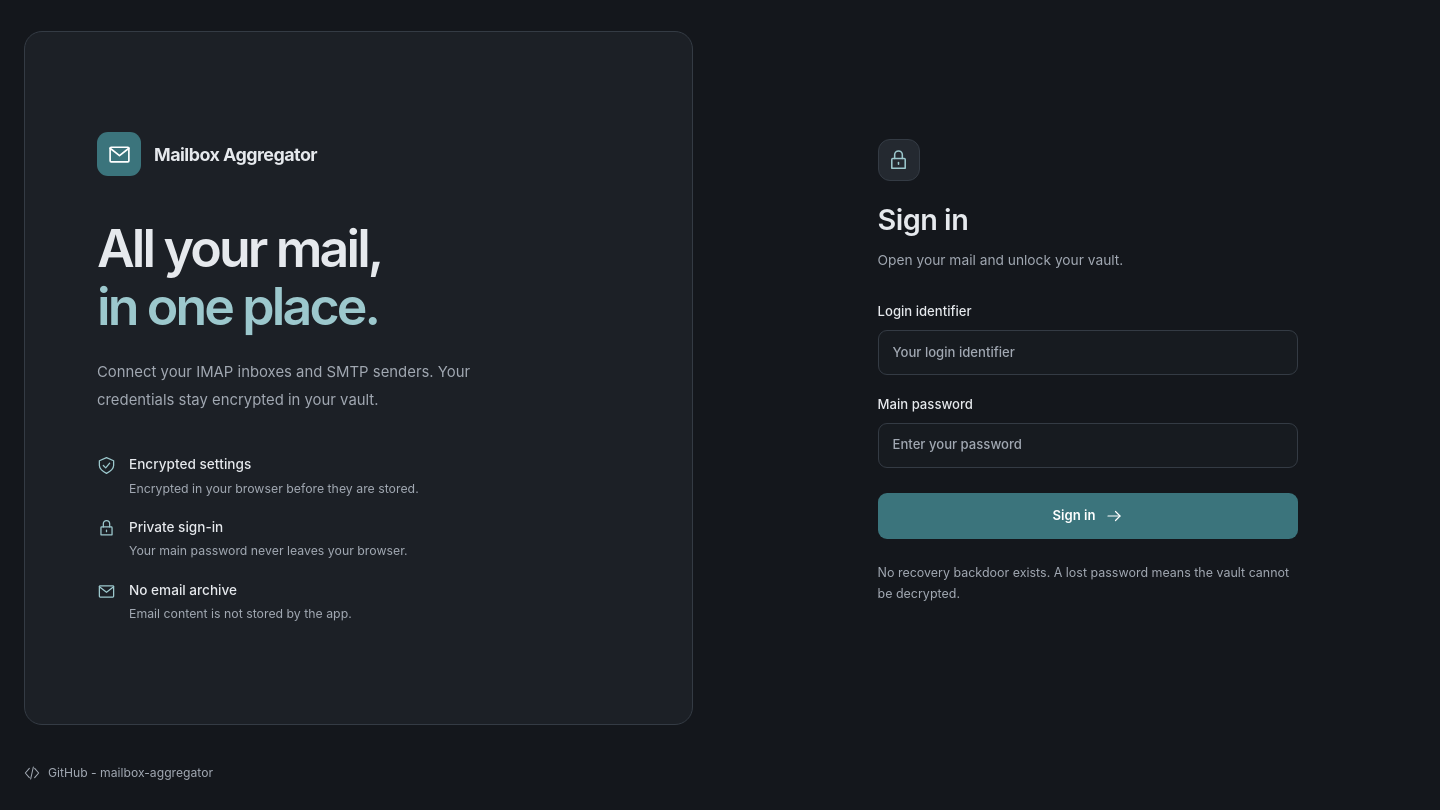
Test: signing in unlocks the browser vault › does not attempt to unlock after failed authentication
The image size is (1440, 810).
Type "Me@example.test" into the field labelled "Login identifier". click: (1088, 352)
box: top-left (878, 330), bottom-right (1298, 375)
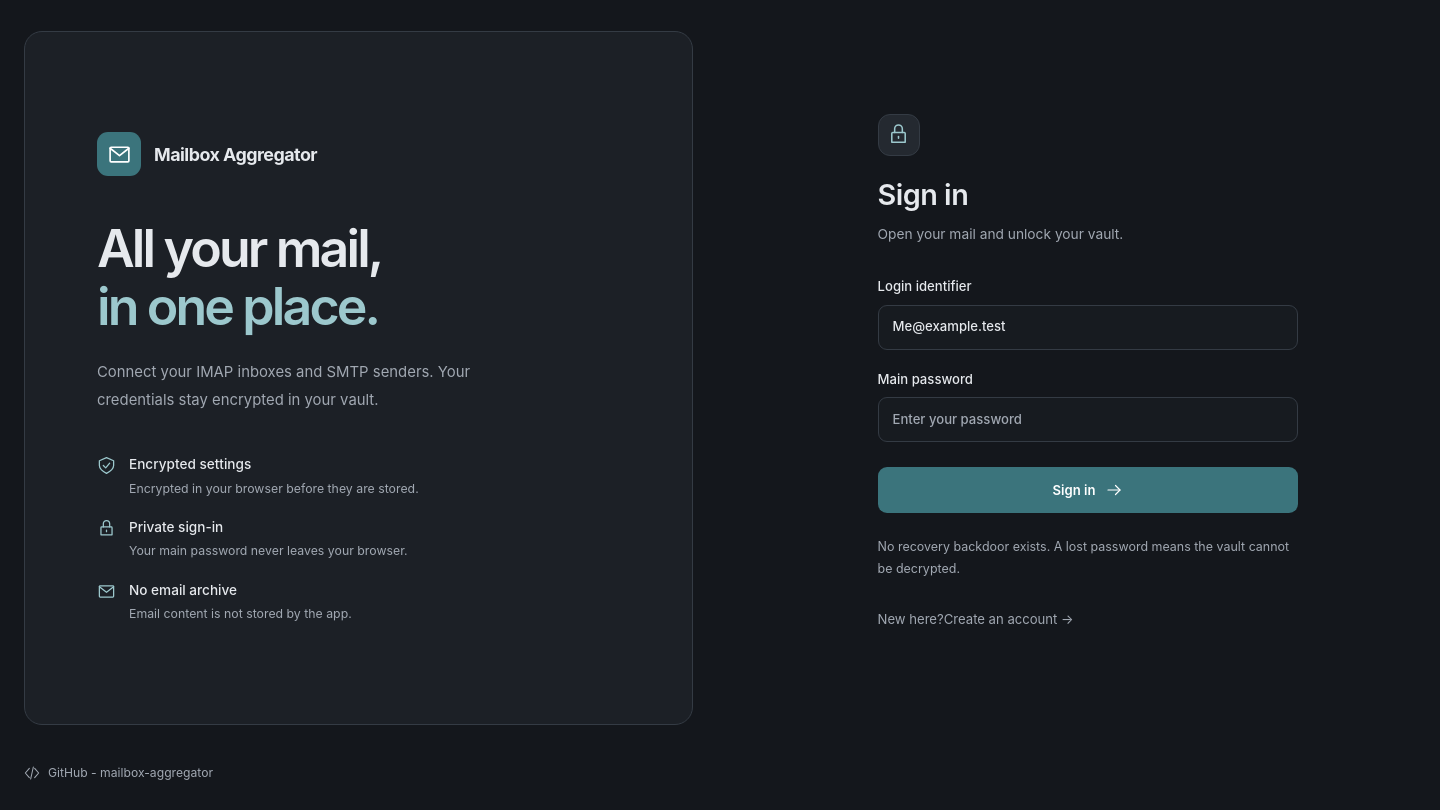
Type "correct horse battery staple" into the password field labelled "Main password". click: (1088, 420)
box: top-left (878, 398), bottom-right (1298, 442)
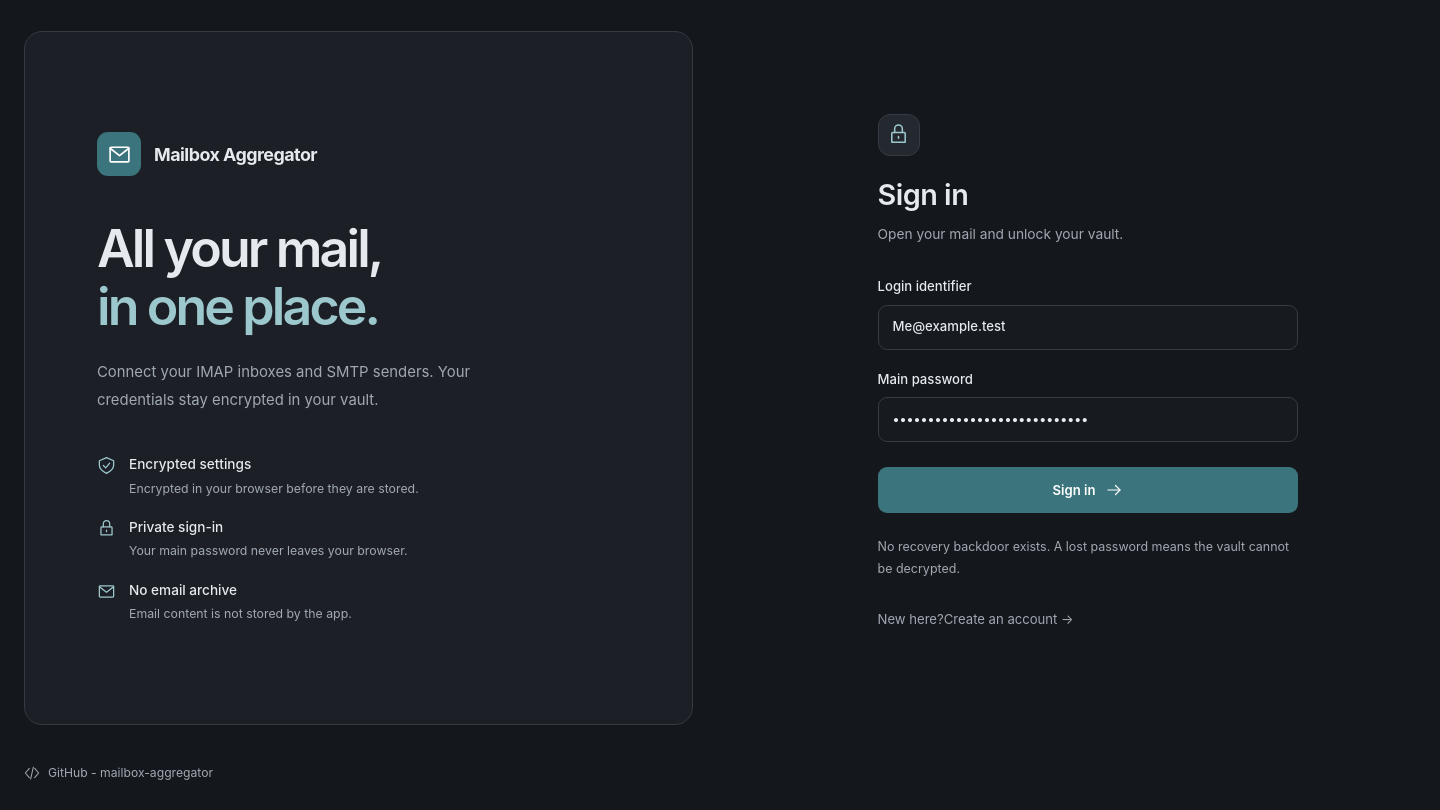
Submit the form, box top-left (878, 277), bottom-right (1298, 514)
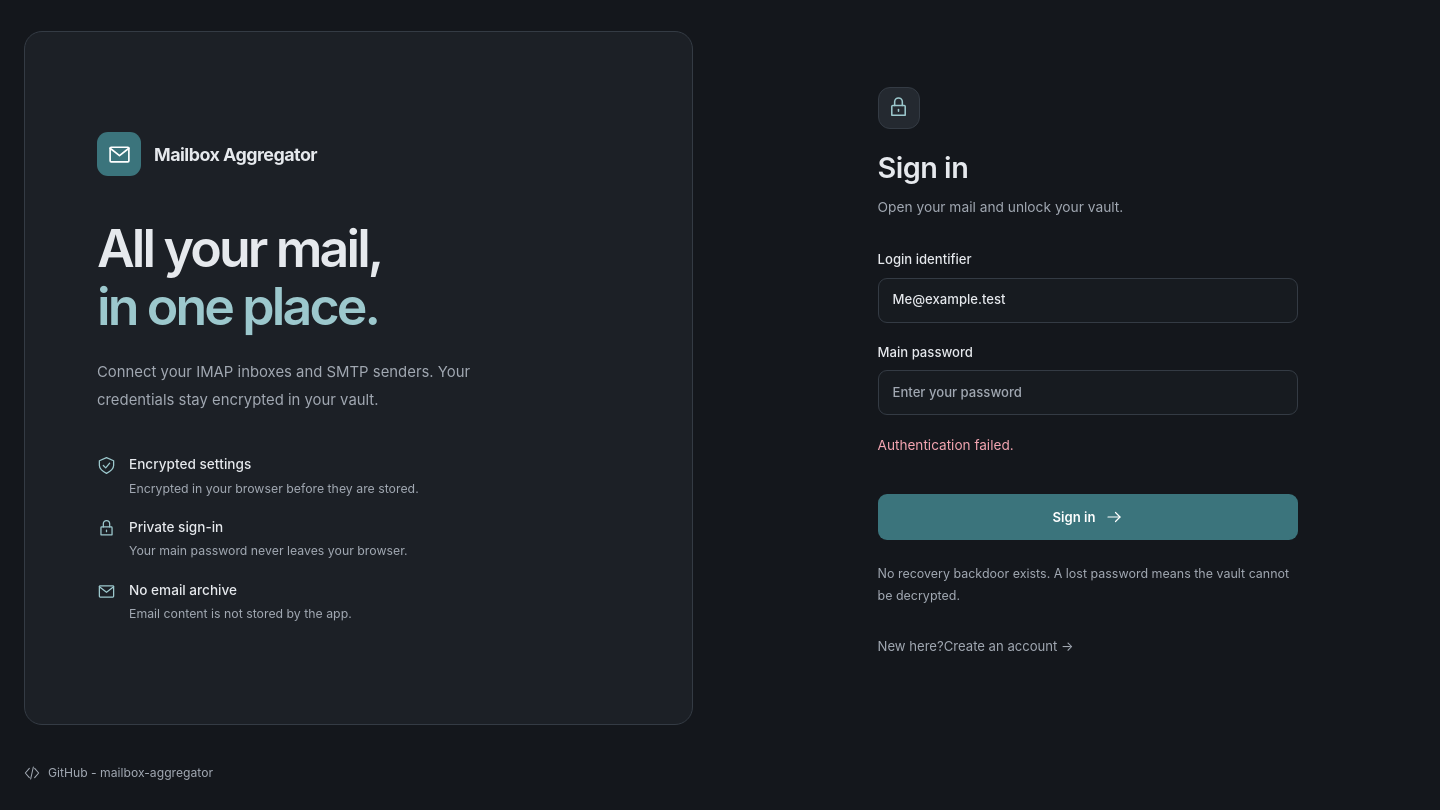
expect the message "Authentication failed." is shown: met, box top-left (878, 438), bottom-right (1014, 454)
